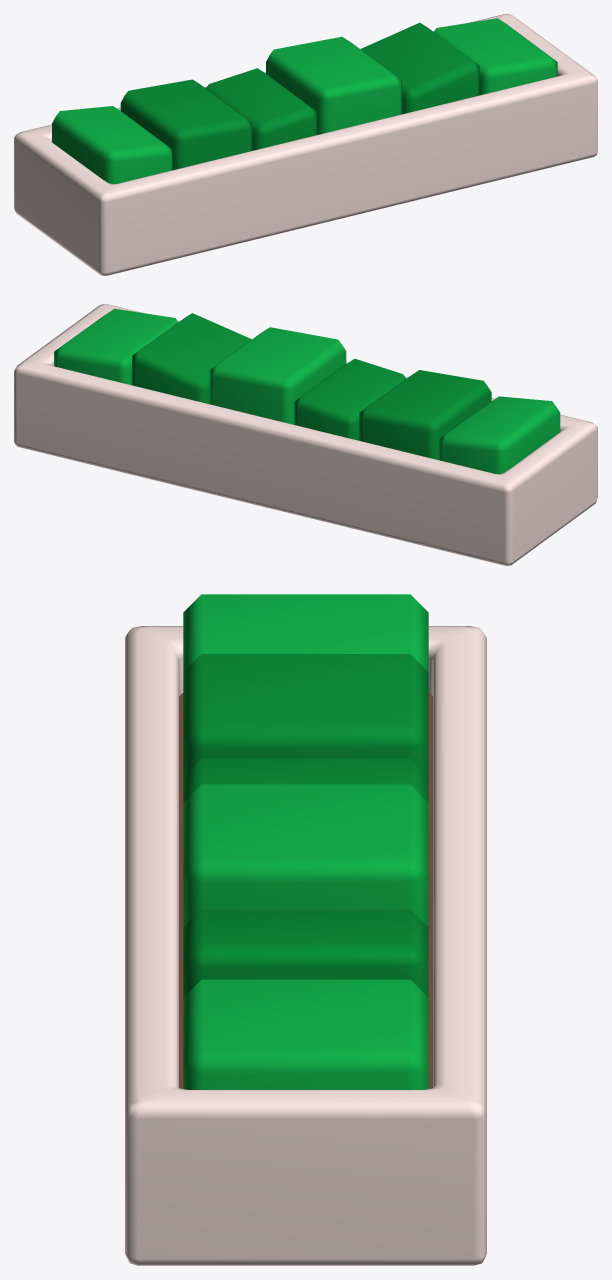
File: Store_1_Plant_2.glb
The picture shows the model from 3 angles, top to bottom: view 1: azimuth 30°, elevation 25°; view 2: azimuth 150°, elevation 25°; view 3: azimuth 270°, elevation 25°; orthographic projection. The views are drawn at different scales.
Parts seen in each view (by area): view 1: Store_1_Plant_2; view 2: Store_1_Plant_2; view 3: Store_1_Plant_2.
Boxes of the visible parts, x1,y1,x2,y2 form: Store_1_Plant_2: (14,14,597,275); Store_1_Plant_2: (14,304,597,565); Store_1_Plant_2: (125,594,486,1265).
Bounding box in the file's own units: 3.48 × 0.7904 × 1.09.
Materials: 1 (1 with a texture image).
